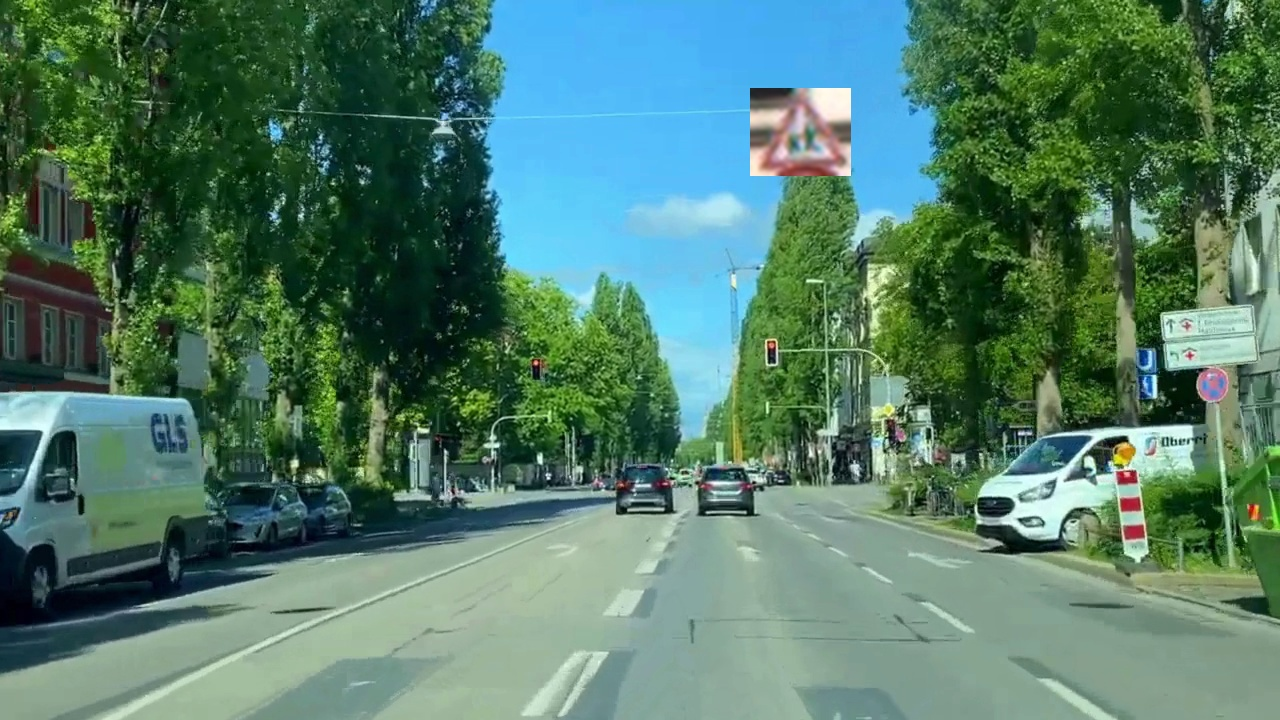Children: (750, 88, 851, 176)
